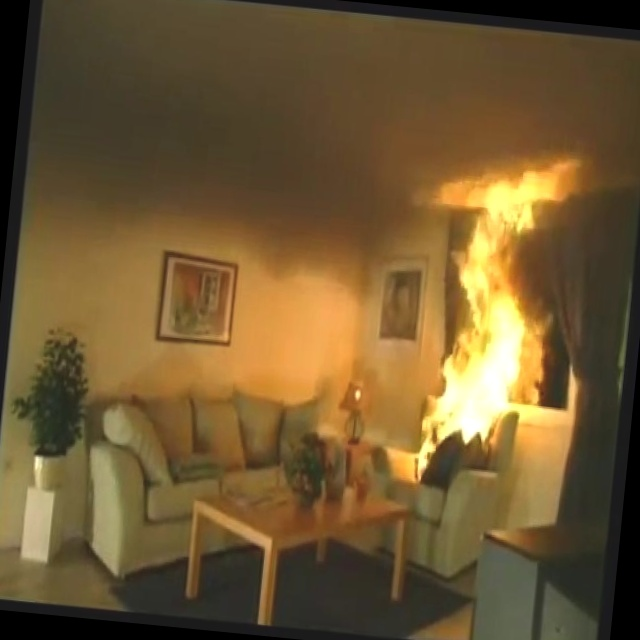fire: (405, 172, 568, 460)
smoke: (27, 0, 455, 243)
